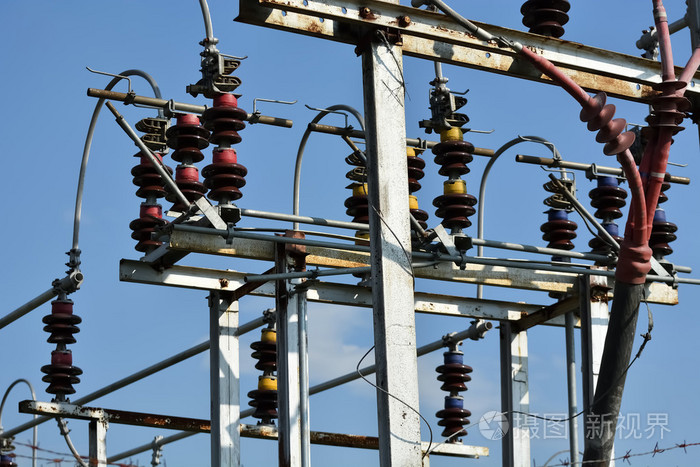insulator: (577, 91, 633, 155), (649, 75, 692, 137), (201, 104, 251, 145), (433, 194, 483, 232), (164, 124, 211, 164), (518, 1, 573, 35), (202, 162, 246, 200), (431, 139, 475, 177), (40, 311, 85, 348), (124, 217, 170, 252), (131, 161, 172, 200), (586, 183, 630, 219), (43, 359, 83, 397), (432, 363, 476, 395), (539, 219, 580, 253), (433, 407, 474, 439), (646, 221, 683, 256), (248, 338, 282, 376), (246, 388, 282, 423), (169, 180, 208, 205), (404, 158, 429, 197), (341, 195, 374, 221)
